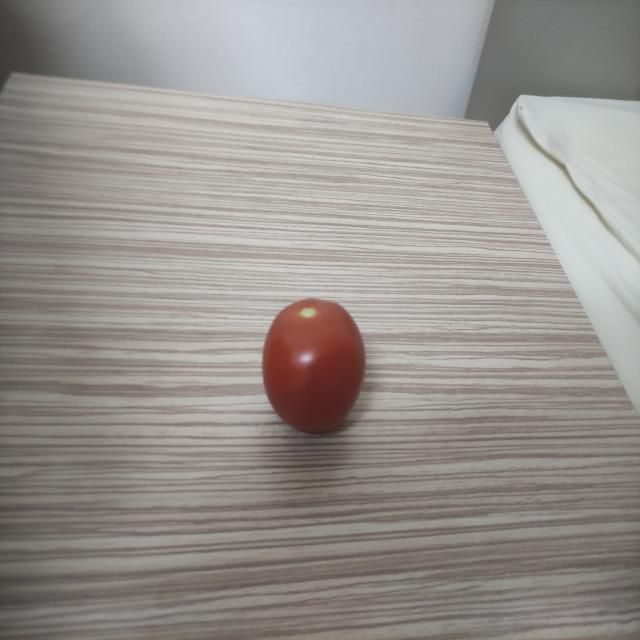kirmizi: (246, 265, 382, 459)
